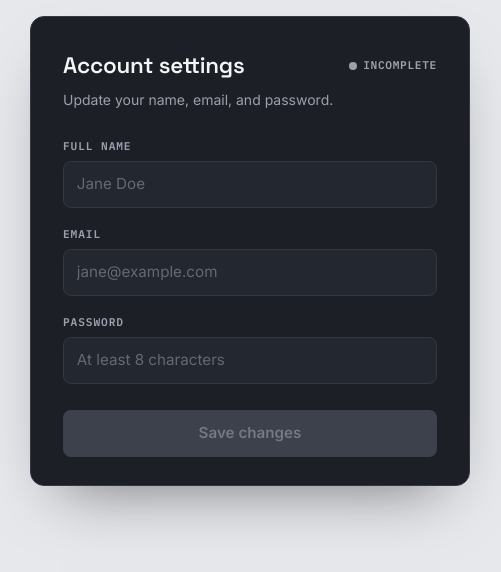
Test: SettingsForm component › shows a validation message below a field after it is touched and left invalid
The image size is (501, 572).
Step 1. Type "not-an-email" into the field labelled "Email" → point(250, 273), box [63,249,437,296]
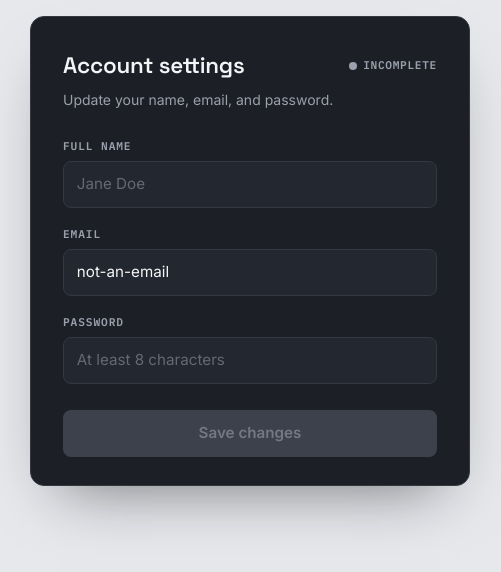
Step 2. Leave the field labelled "Email", box [63,249,437,296]
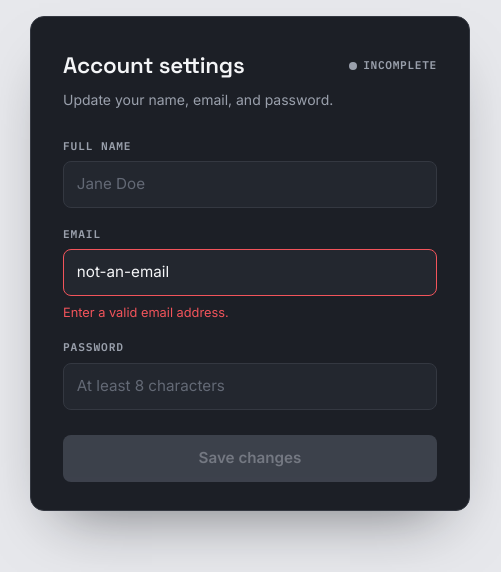
Expected: the text "Enter a valid email address." is shown, [63,305,229,320]
